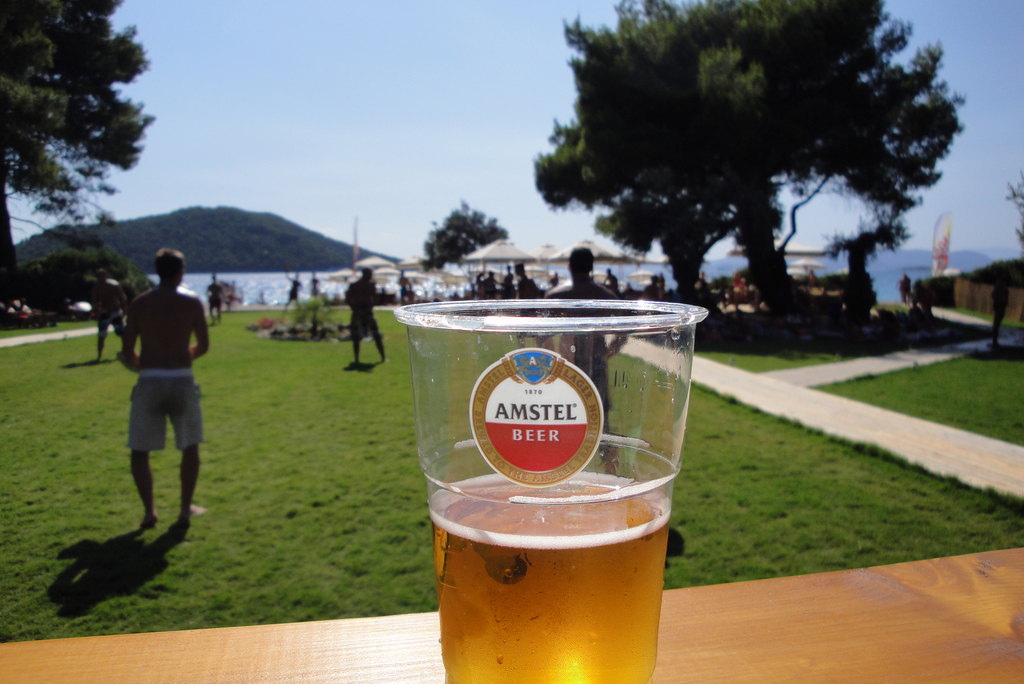Beer: (429, 473, 667, 683)
